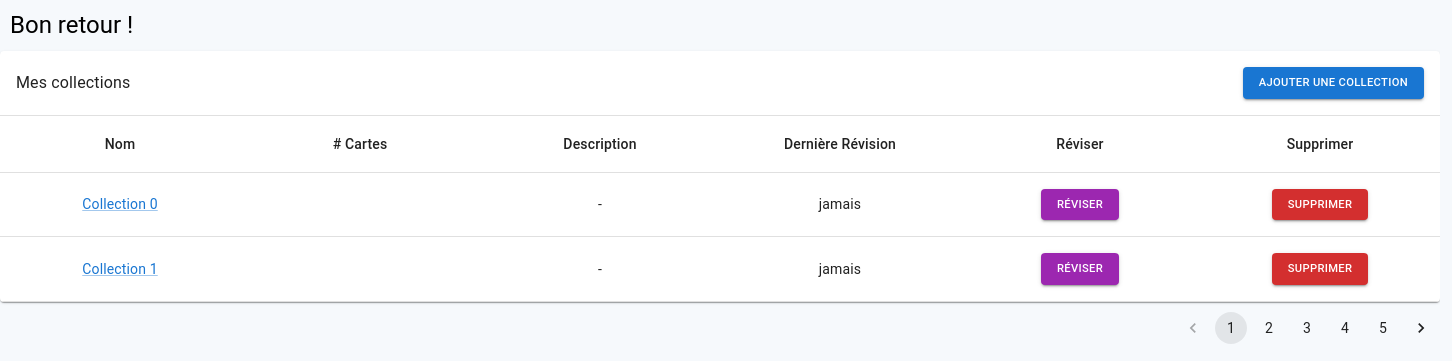
Test: HomeContent › Test the collections are fetched correctly
expect the link with test id "collection-0" reads "Collection 0": met, box [82,196,158,212]
expect the link with test id "collection-1" reads "Collection 1": met, box [82,261,158,277]
Click the button "2": (1269, 328) [1253,312,1285,344]
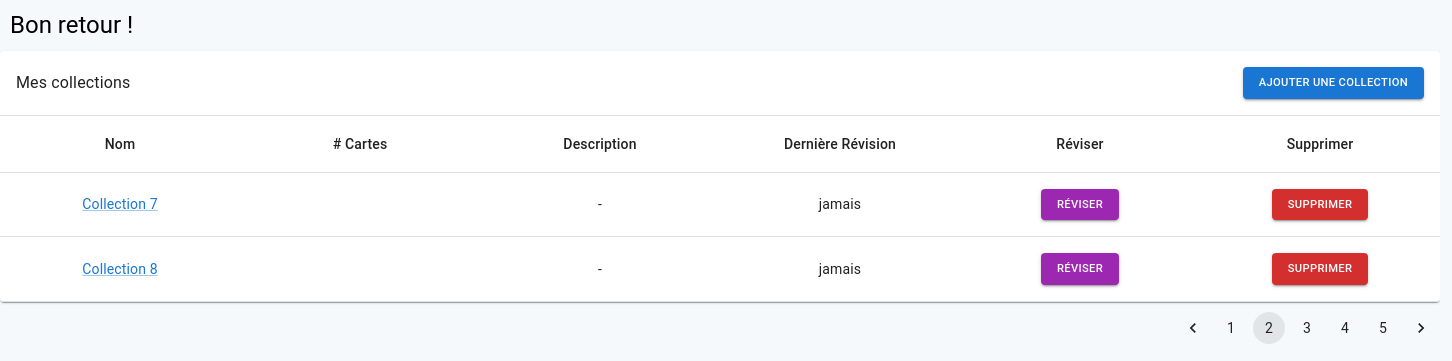
expect the link with test id "collection-7" reads "Collection 7": met, box [82,196,158,212]
expect the link with test id "collection-8" reads "Collection 8": met, box [82,261,158,277]
